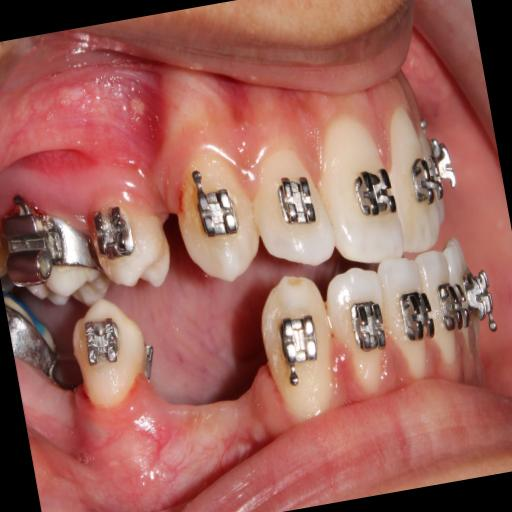correct_brace: (65, 292, 162, 422), (88, 188, 174, 294), (274, 300, 326, 386), (192, 170, 242, 244), (78, 311, 125, 382), (273, 168, 319, 231), (352, 164, 397, 223), (350, 296, 386, 350)
incorrect_brace: (246, 139, 338, 274), (320, 262, 395, 394), (91, 198, 136, 266)
